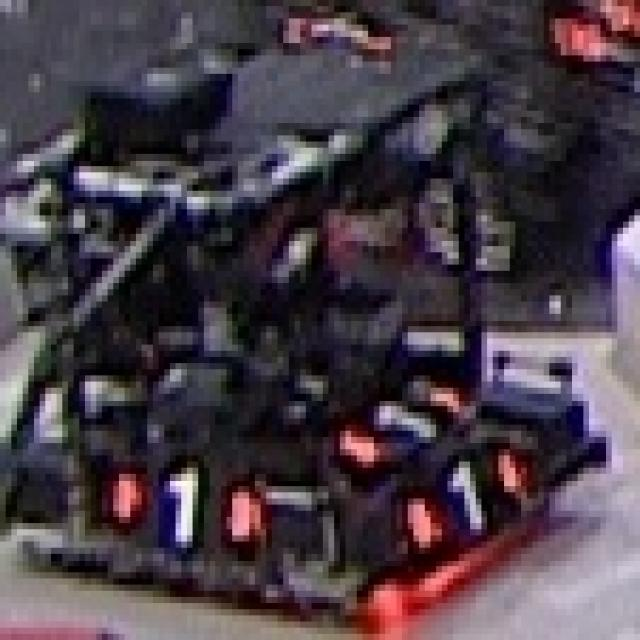R1: (334, 369, 465, 468), (107, 462, 255, 548), (402, 449, 521, 548)
